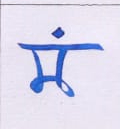anusvara: (52, 27, 64, 38)
